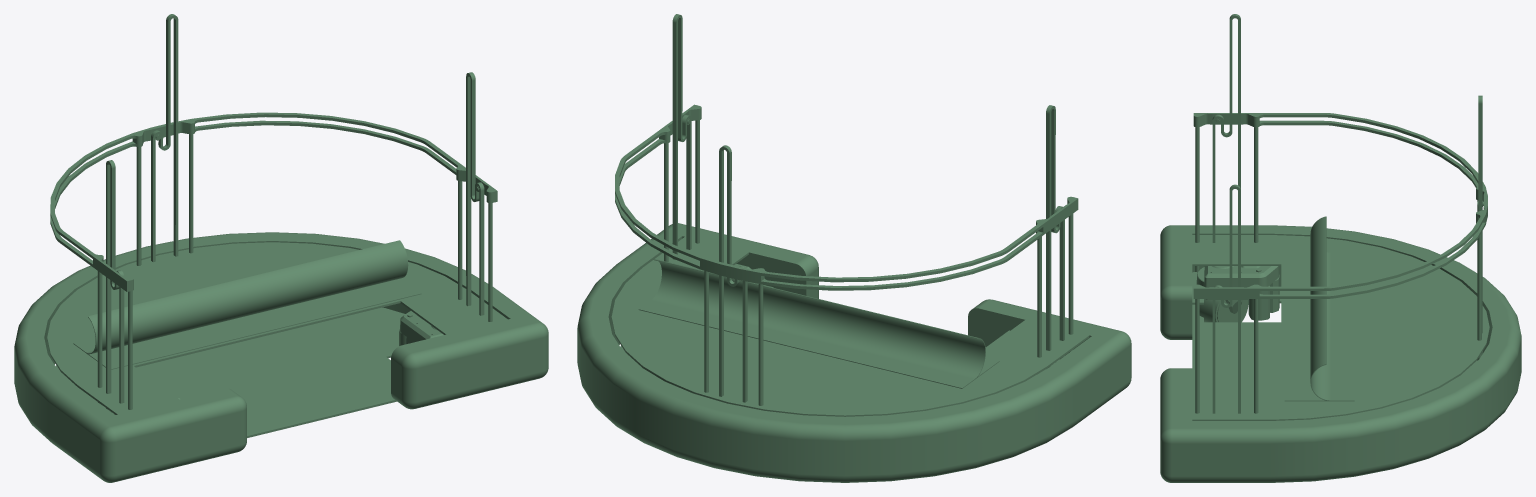
3 views of the same model, side by side, from view 1: azimuth 30°, elevation 25°; view 2: azimuth 150°, elevation 25°; view 3: azimuth 270°, elevation 25° (orthographic). The views are drawn at different scales.
Parts seen in each view (by area): view 1: id16, id41, id51, id211, id206, id21, id181, id26, id31, id66, id71, id136 (+8 smaller); view 2: id16, id51, id206, id21, id211, id181, id136, id71, id76, id66, id81, id86 (+5 smaller); view 3: id16, id51, id41, id21, id181, SDS MK5n Top Assembly (A), id136, id26, id211, id86, id31, id71 (+10 smaller).
Boxes of the visible parts, <box> form: id16: <box>14,232,548,482</box>; id41: <box>55,307,405,437</box>; id51: <box>47,242,507,414</box>; id211: <box>244,240,408,315</box>; id206: <box>85,278,252,354</box>; id21: <box>38,238,519,419</box>; id181: <box>50,112,497,283</box>; id26: <box>245,278,421,331</box>; id31: <box>85,316,265,369</box>; id66: <box>151,14,178,262</box>; id71: <box>466,72,484,315</box>; id136: <box>50,120,497,291</box>; id16: <box>577,223,1131,482</box>; id51: <box>611,237,1089,416</box>; id206: <box>813,298,985,378</box>; id21: <box>602,231,1101,419</box>; id211: <box>651,259,823,339</box>; id181: <box>615,104,1078,282</box>; id136: <box>615,116,1078,290</box>; id71: <box>672,14,691,259</box>; id76: <box>1046,105,1064,368</box>; id66: <box>719,145,747,402</box>; id81: <box>800,339,974,388</box>; id86: <box>638,300,812,349</box>; id16: <box>1160,225,1521,482</box>; id51: <box>1192,235,1489,420</box>; id41: <box>1192,291,1477,390</box>; id21: <box>1183,231,1498,423</box>; id181: <box>1193,113,1487,290</box>; SDS MK5n Top Assembly (A): <box>1192,266,1279,322</box>; id136: <box>1193,120,1487,298</box>; id26: <box>1284,326,1330,401</box>; id211: <box>1310,291,1331,400</box>; id86: <box>1331,326,1354,401</box>; id31: <box>1284,252,1310,326</box>; id71: <box>1212,184,1240,413</box>.
Size of the model in its own units: 1.09 by 0.7543 by 0.7874.
